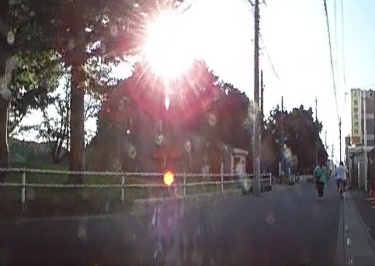person: (313, 159, 327, 196), (336, 159, 347, 190)
